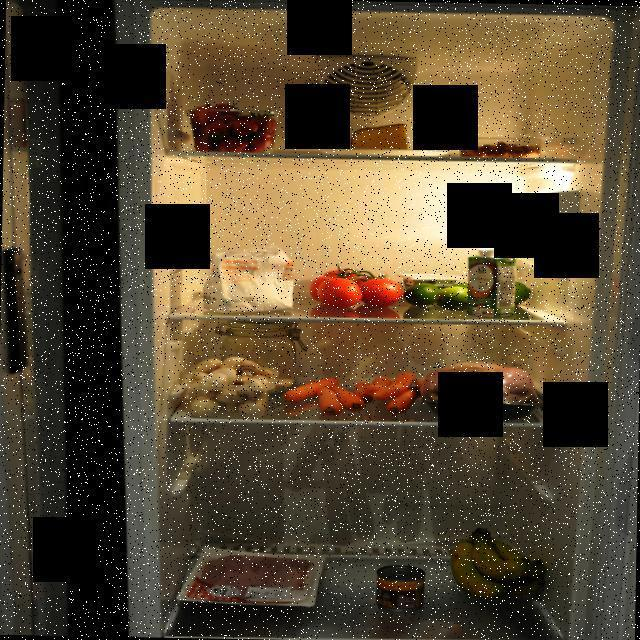banana: (442, 524, 548, 604)
carrot: (278, 365, 422, 417)
cheese: (348, 119, 414, 155)
chicken: (418, 359, 544, 420)
corn: (374, 564, 426, 612)
flour: (210, 321, 314, 392), (198, 241, 297, 314)
goat_cheese: (397, 272, 462, 292)
ham: (197, 550, 316, 607)
heavy_cream: (464, 244, 520, 320)
lime: (403, 278, 538, 310)
mushrooms: (180, 355, 288, 416)
shrimp: (465, 140, 541, 162)
strawberries: (188, 101, 280, 153)
tomato: (304, 258, 404, 311)
